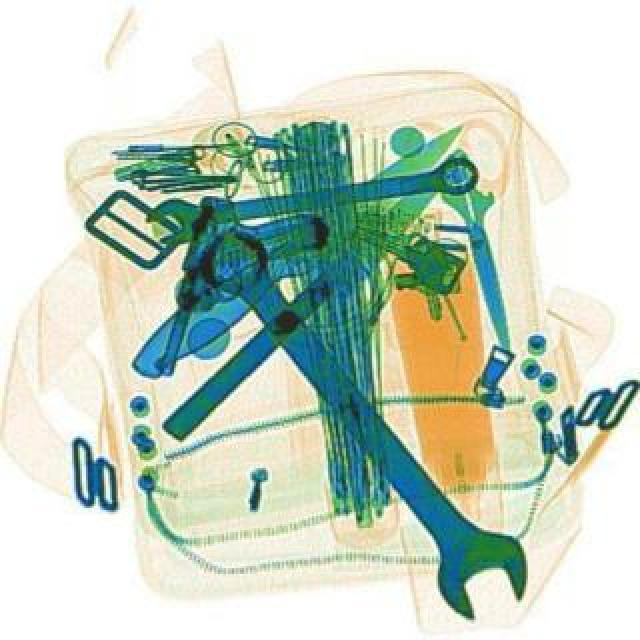gun: (154, 192, 336, 404)
knife: (158, 138, 486, 454), (118, 110, 484, 392), (444, 176, 532, 364)
scissors: (178, 216, 554, 640), (142, 158, 486, 254)
